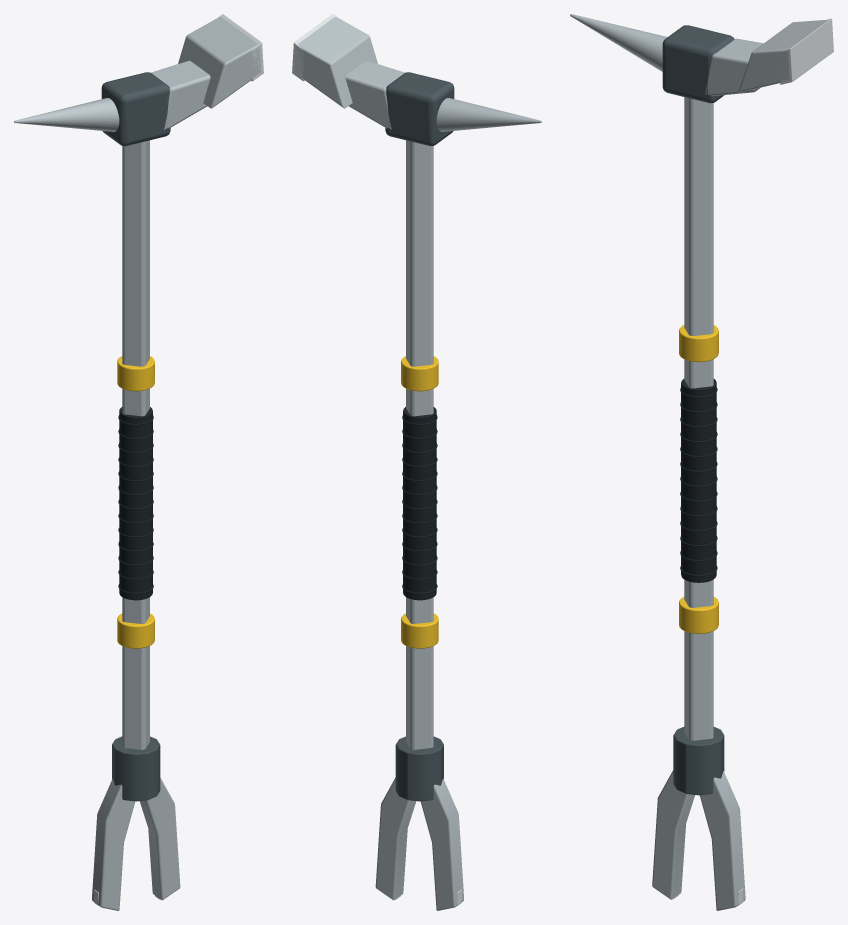
The model's file is halligan.glb.
3 views of the same model, side by side, from view 1: azimuth 30°, elevation 25°; view 2: azimuth 150°, elevation 25°; view 3: azimuth 330°, elevation 25° (orthographic). The views are drawn at different scales.
Parts seen in each view (by area): view 1: halligan_render_mesh; view 2: halligan_render_mesh; view 3: halligan_render_mesh.
Boxes of the visible parts, x1,y1,x2,y2 form: halligan_render_mesh: [14, 14, 263, 910]; halligan_render_mesh: [292, 14, 541, 910]; halligan_render_mesh: [570, 14, 833, 910].
Bounding box in the file's own units: 0.2527 × 0.8906 × 0.075.
